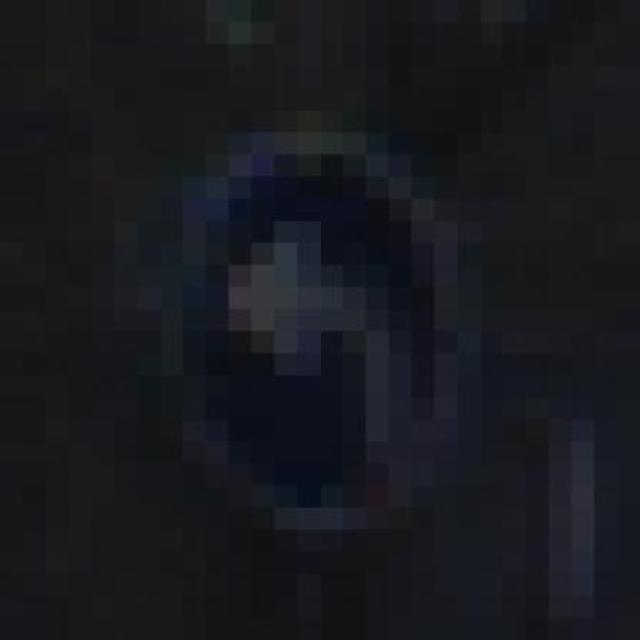Turn left ahead: (137, 132, 503, 552)
